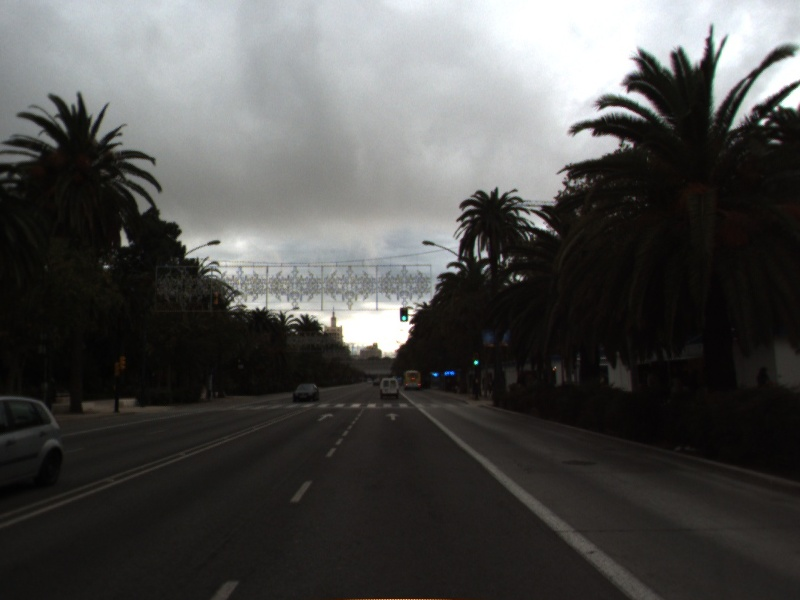STRAIGHT: (315, 411, 336, 423), (383, 411, 402, 422)
